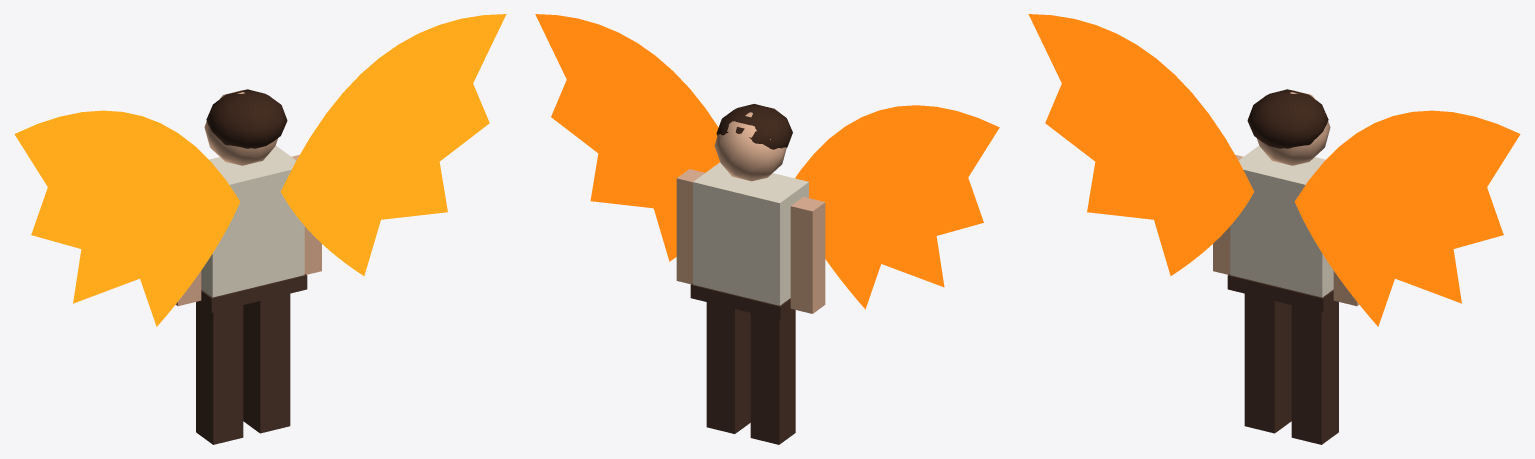
File: runner-with-firewings.glb
3 renders of one model, left to right at view 1: azimuth 30°, elevation 25°; view 2: azimuth 150°, elevation 25°; view 3: azimuth 330°, elevation 25°, orthographic. The views are drawn at different scales.
Visible parts, largest first — view 1: Runner with Wings of Fire; view 2: Runner with Wings of Fire; view 3: Runner with Wings of Fire.
Part boxes in pixels (x1,y1,x2,y2): Runner with Wings of Fire: [14, 14, 506, 444]; Runner with Wings of Fire: [535, 14, 999, 444]; Runner with Wings of Fire: [1028, 14, 1520, 444].
Size of the model in its own units: 2.94 by 2.14 by 0.45.
